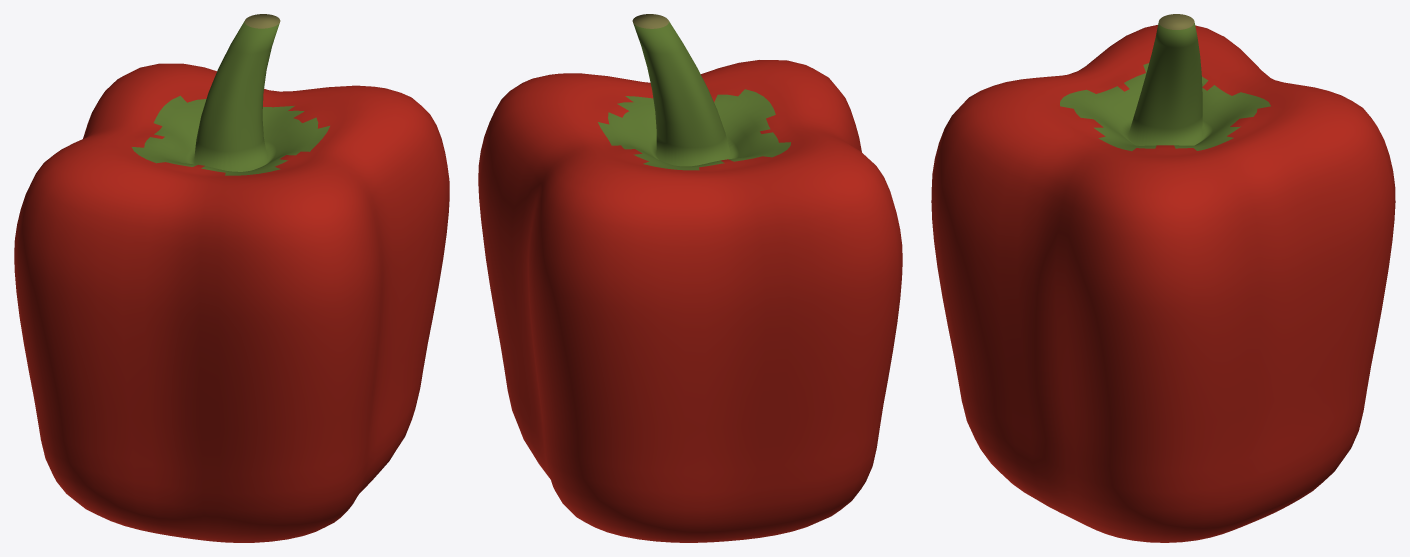
File: A-NEW-20261027-BELL-PEPPER-001_LOD1_R2.fbx
The picture shows the model from 3 angles, left to right: view 1: azimuth 30°, elevation 25°; view 2: azimuth 150°, elevation 25°; view 3: azimuth 270°, elevation 25°; orthographic projection. The views are drawn at different scales.
Visible parts, largest first — view 1: original four lobed pepper body calyx and thick stalk; view 2: original four lobed pepper body calyx and thick stalk; view 3: original four lobed pepper body calyx and thick stalk.
Part boxes in pixels (bbox=[...]): original four lobed pepper body calyx and thick stalk: bbox=[14, 14, 449, 542]; original four lobed pepper body calyx and thick stalk: bbox=[478, 14, 902, 542]; original four lobed pepper body calyx and thick stalk: bbox=[931, 14, 1395, 542].
Size of the model in its own units: 8.8 by 9.63 by 8.28.
